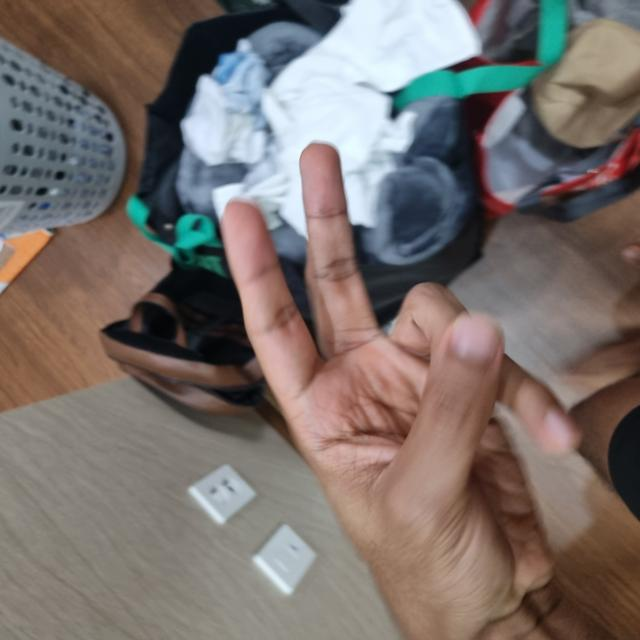Scissors: (17, 225, 498, 572)
